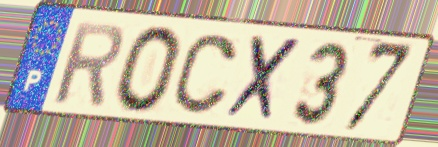3: (292, 39, 353, 129)
7: (338, 37, 418, 136)
C: (168, 32, 241, 118)
O: (112, 23, 185, 116)
R: (51, 18, 127, 108)
X: (221, 32, 306, 126)
